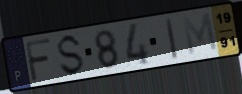4: (124, 21, 152, 67)
8: (92, 29, 121, 70)
F: (23, 37, 53, 84)
I: (164, 16, 180, 61)
M: (180, 11, 220, 58)
S: (57, 33, 87, 78)
